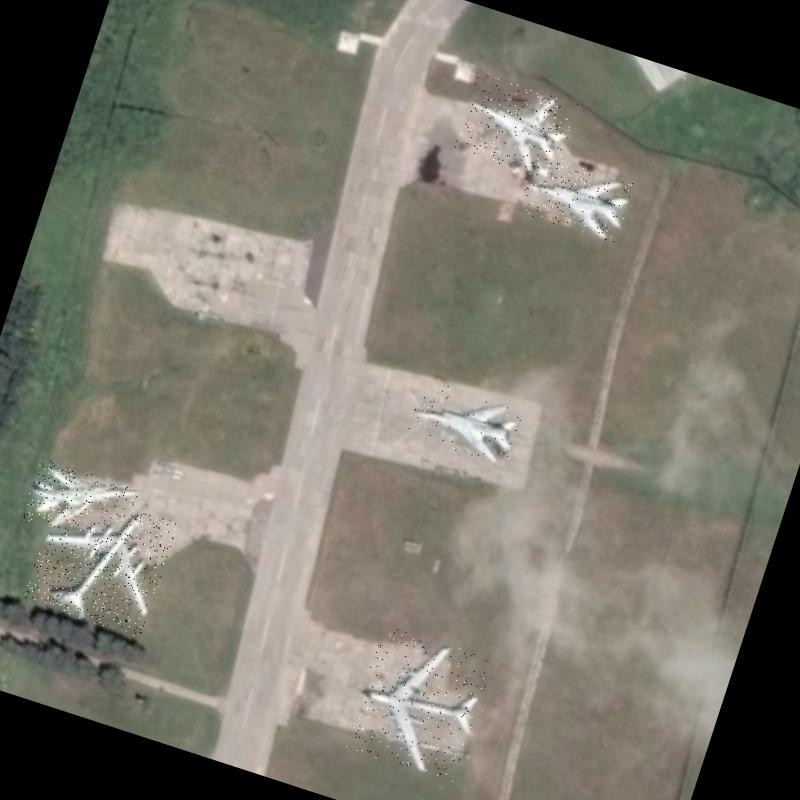A12: (453, 72, 578, 182), (515, 151, 635, 244), (21, 458, 140, 551), (406, 376, 524, 466)
A17: (344, 624, 494, 784), (23, 486, 178, 638)
